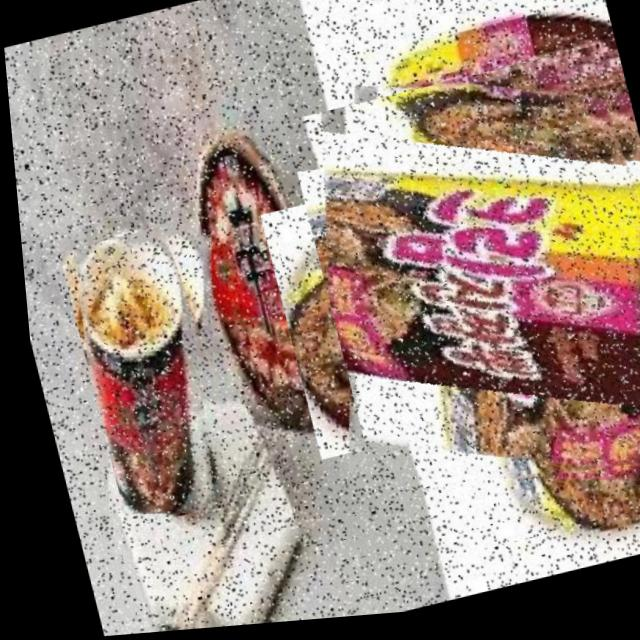Miscellaneous: (276, 48, 640, 542), (51, 218, 252, 532)
